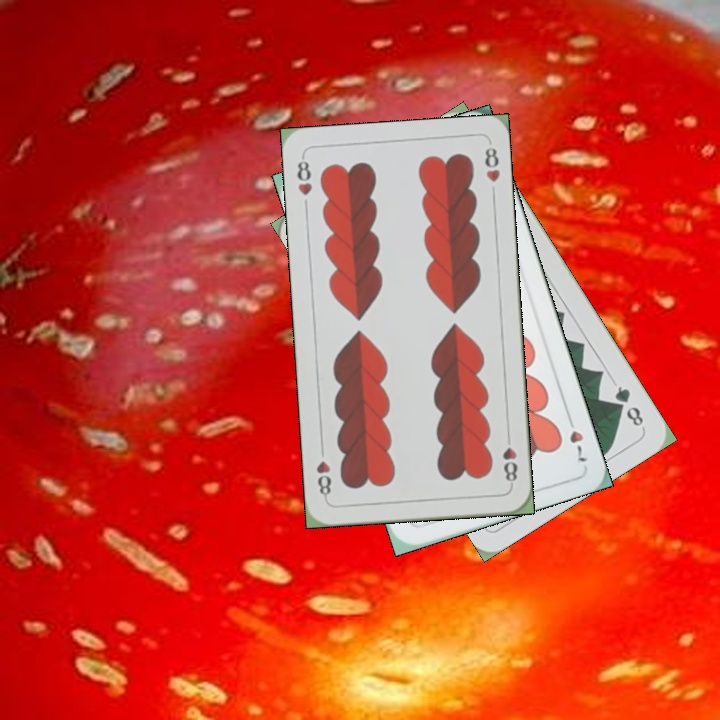G8: (610, 381, 647, 429)
H7: (562, 410, 590, 465)
H8: (499, 429, 520, 488), (293, 152, 315, 198)
